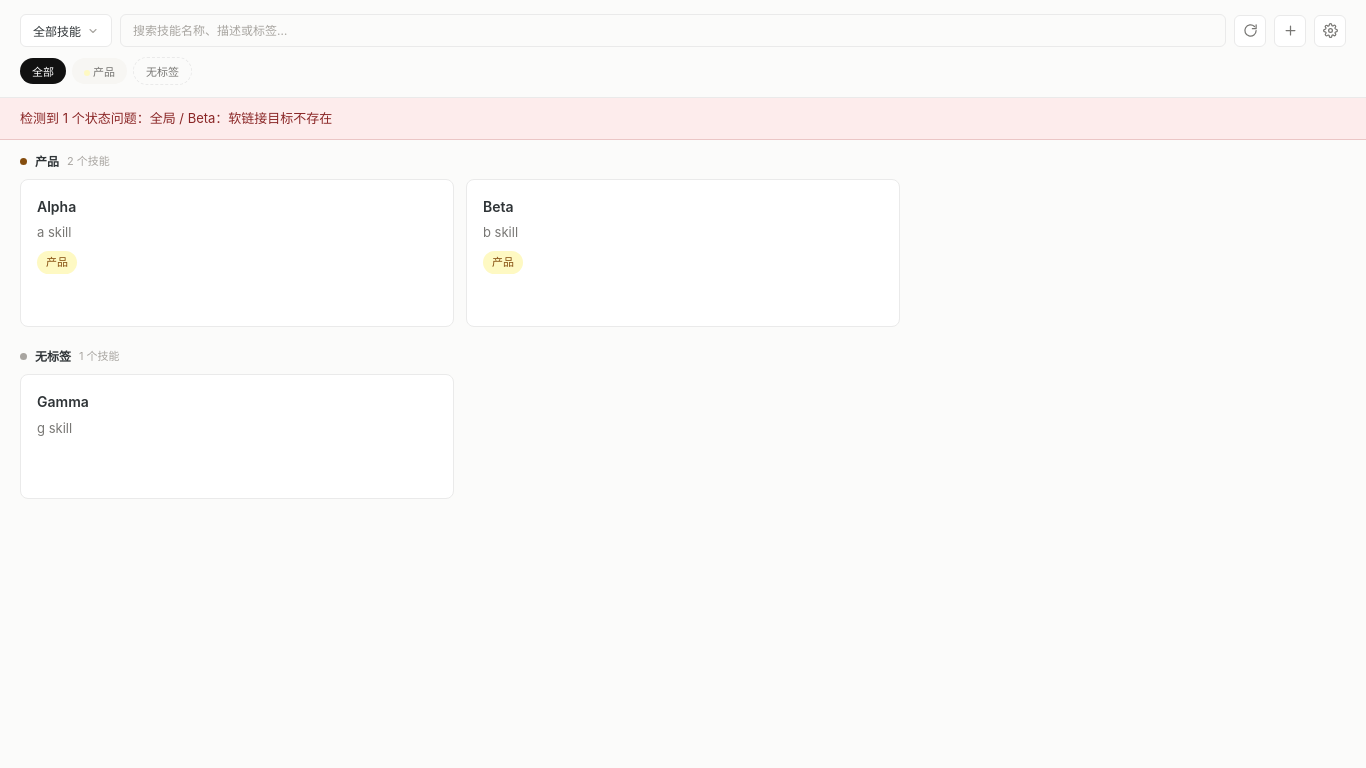
Esc layering › pressing Esc closes the drawer
The image size is (1366, 768).
Expected: the button with class "skill-card" showing "Alpha a skill 产品" is shown, [20,179,454,327]
Click the button with class "skill-card" showing "Gamma g skill" at (63, 402), box [20,374,454,499]
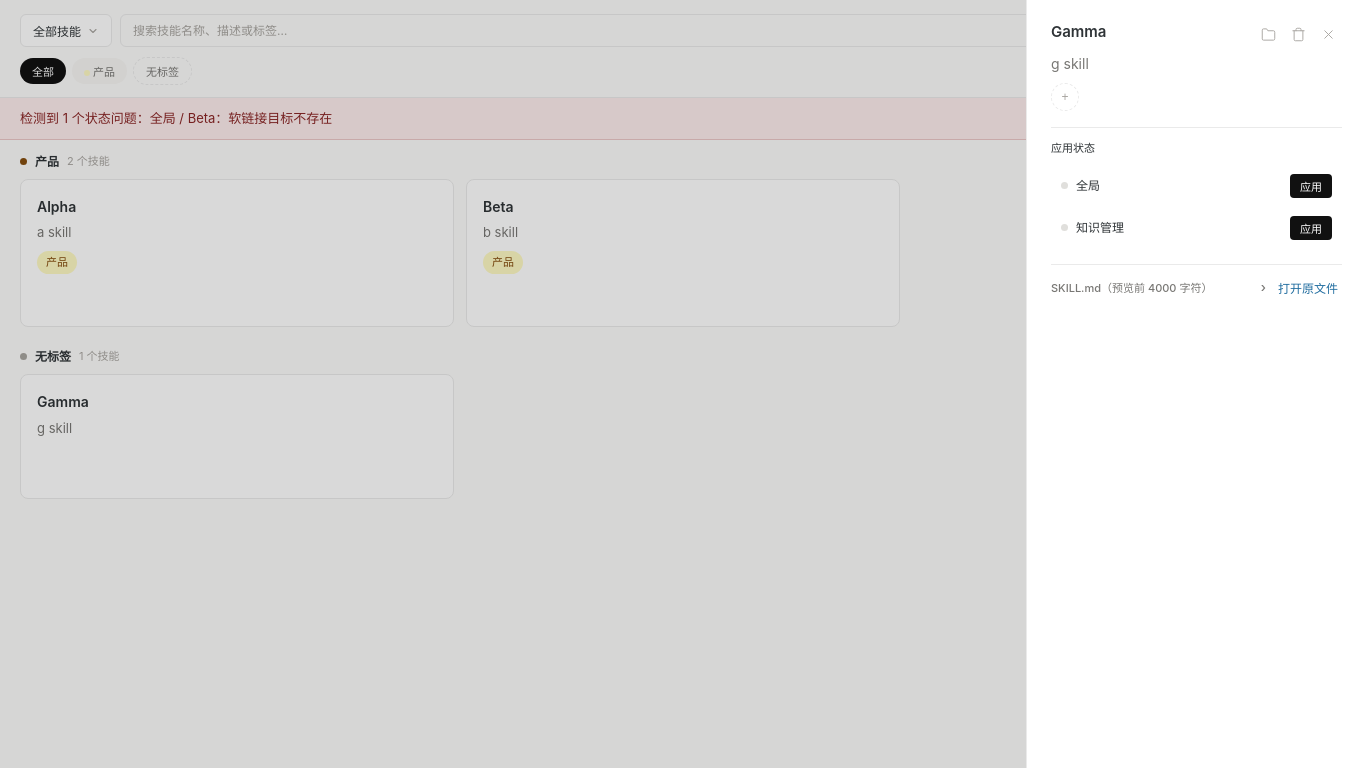
Expected: the dialog with class "drawer-panel" is shown, [1026,0,1365,767]
Press Escape
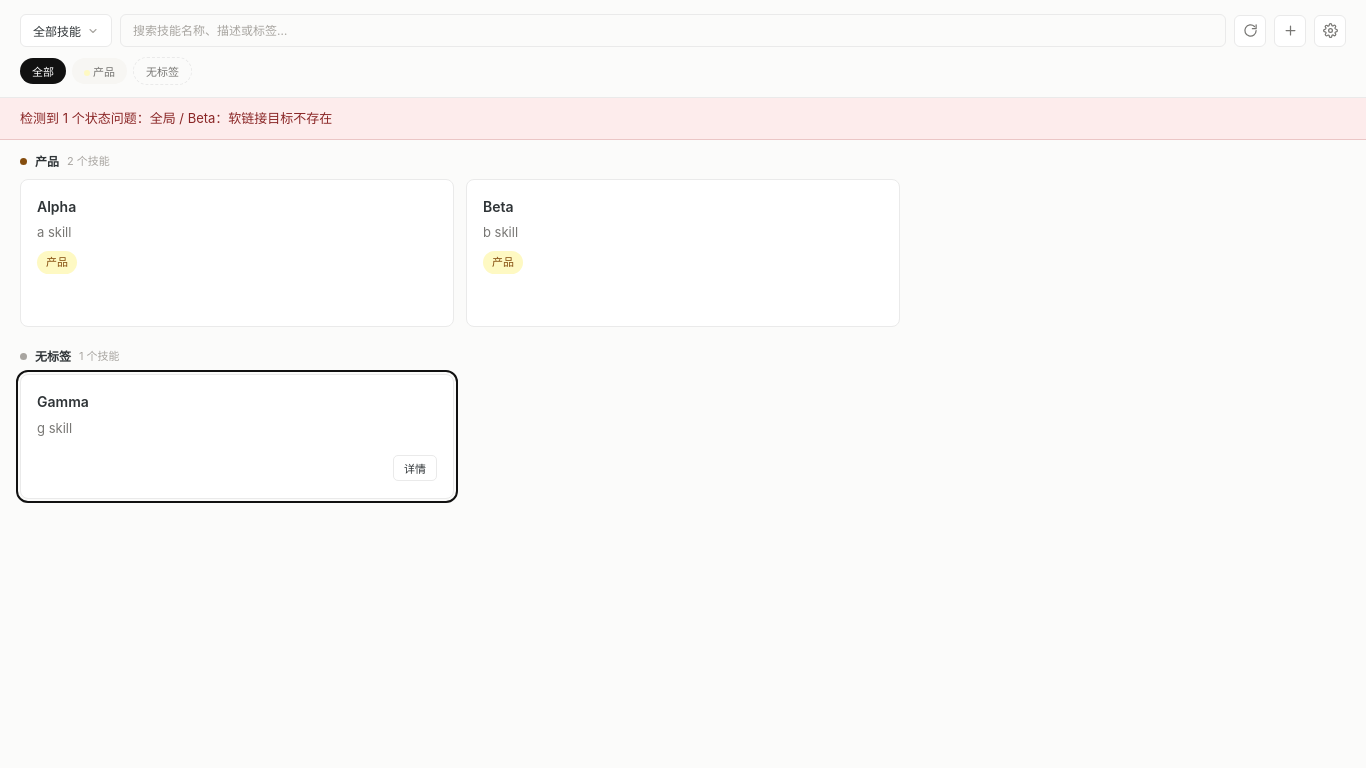
Expected: the dialog with class "drawer-panel" is gone
